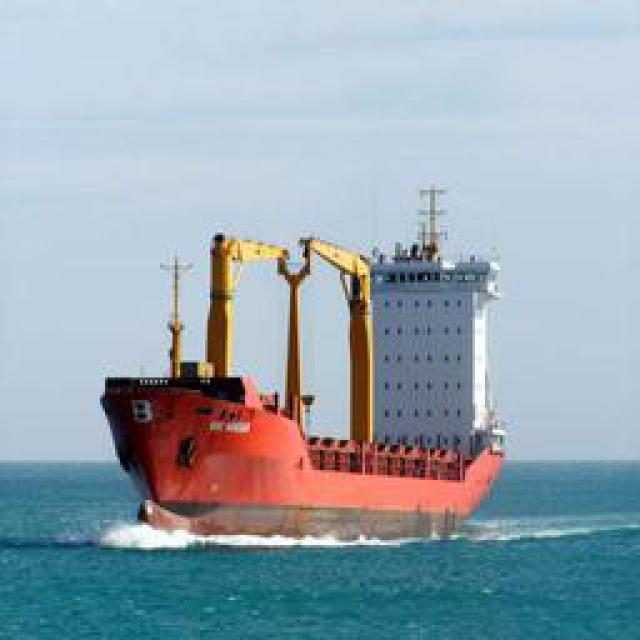Ship: (101, 201, 519, 549)
